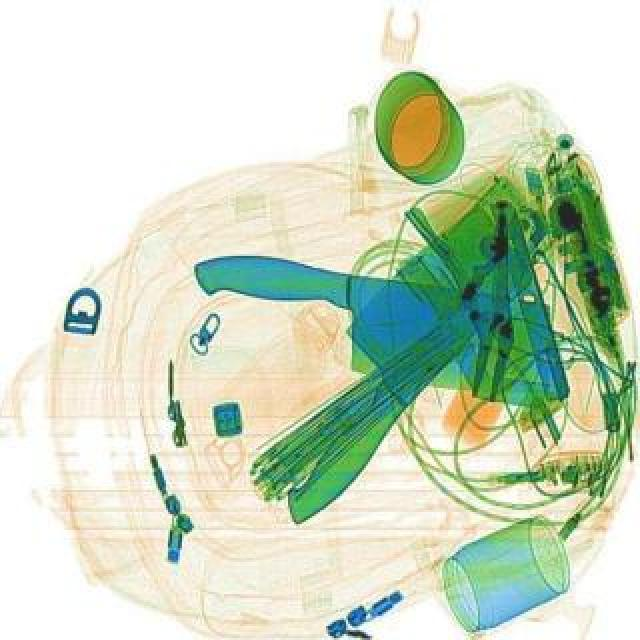knife: (220, 192, 550, 528), (176, 240, 560, 404), (472, 210, 524, 402)
